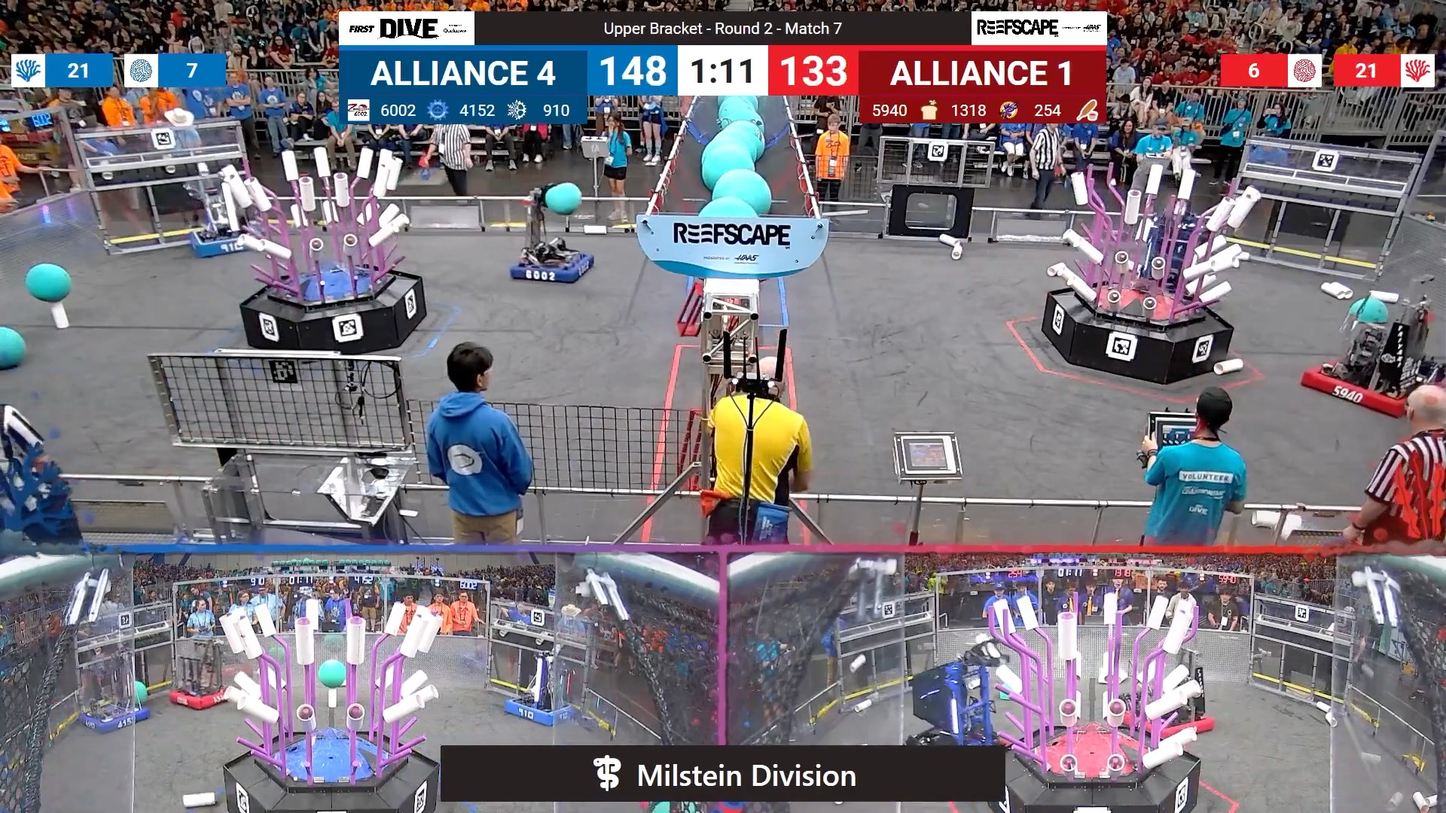bumpers: (1287, 352, 1441, 422), (1116, 702, 1216, 743), (505, 248, 600, 287), (186, 221, 274, 261), (70, 702, 153, 738), (499, 696, 580, 731), (163, 685, 237, 714)
